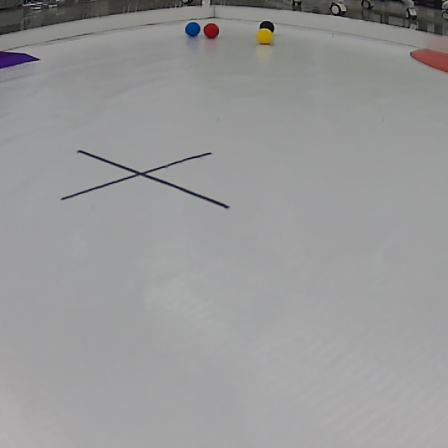black: (258, 18, 281, 35)
blue: (182, 22, 202, 38)
red: (204, 21, 221, 39)
red_base: (403, 43, 448, 82)
yellow: (253, 28, 277, 45)
